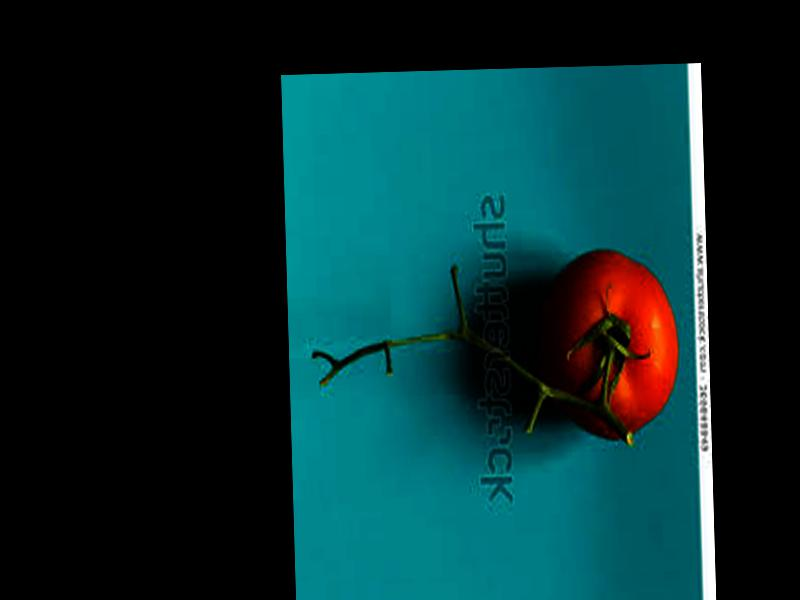Tomato: (538, 249, 678, 443)
